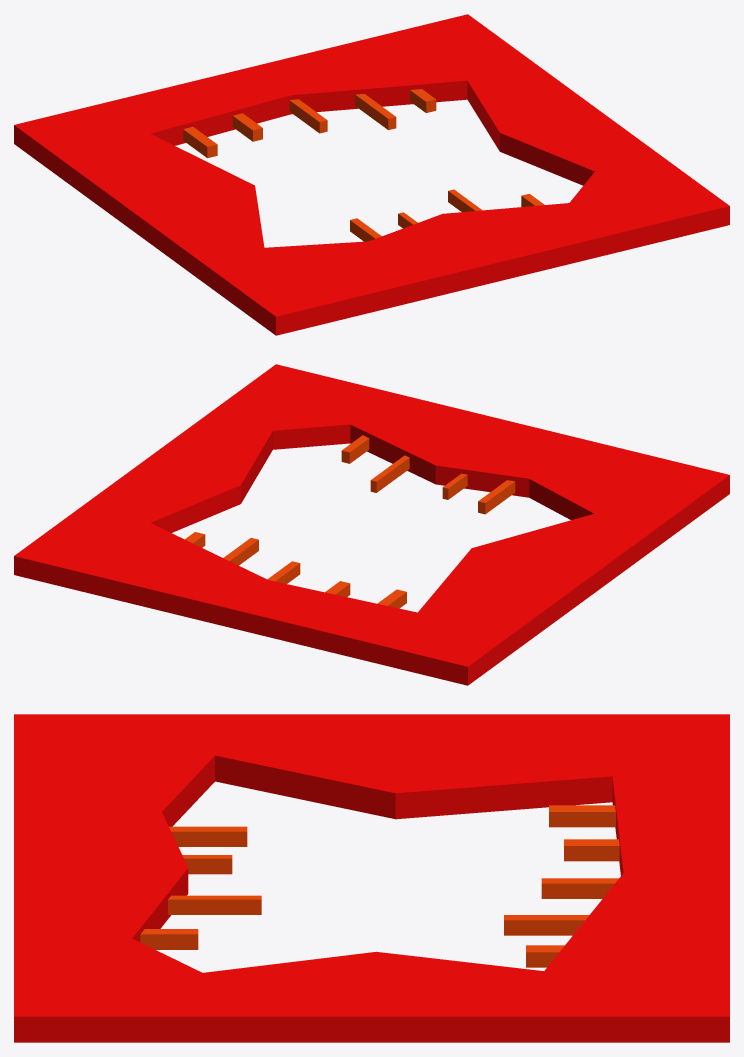
Rendered from GroundBreak.FBX.
The picture shows the model from 3 angles, top to bottom: view 1: azimuth 30°, elevation 25°; view 2: azimuth 150°, elevation 25°; view 3: azimuth 270°, elevation 25°; orthographic projection. The views are drawn at different scales.
Visible parts, largest first — view 1: GroundBreak001; view 2: GroundBreak001; view 3: GroundBreak001.
Part boxes in pixels (<box>): GroundBreak001: <box>14,14,729,335</box>; GroundBreak001: <box>14,364,729,685</box>; GroundBreak001: <box>14,714,729,1042</box>.
Size of the model in its own units: 250 by 10 by 250.
